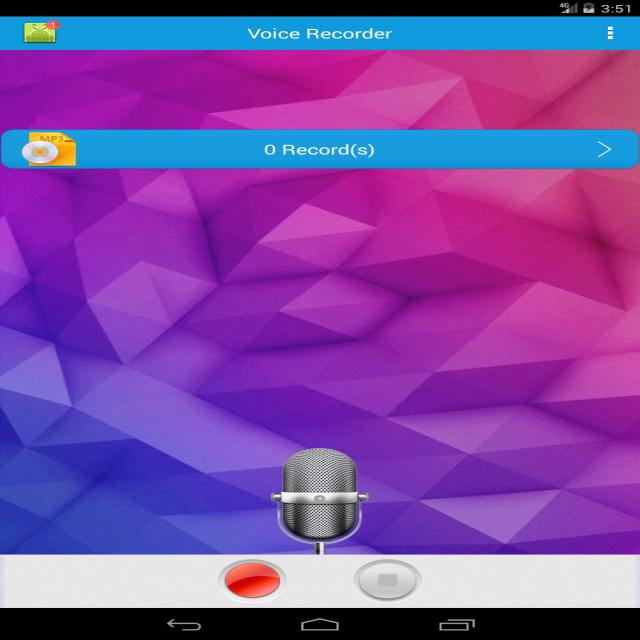button: (352, 558, 421, 602), (221, 560, 285, 600), (594, 20, 635, 47), (586, 134, 620, 164)
heading: (246, 26, 402, 44)
image: (0, 52, 640, 556), (20, 130, 76, 164), (22, 19, 59, 44)
text: (252, 137, 377, 158)
